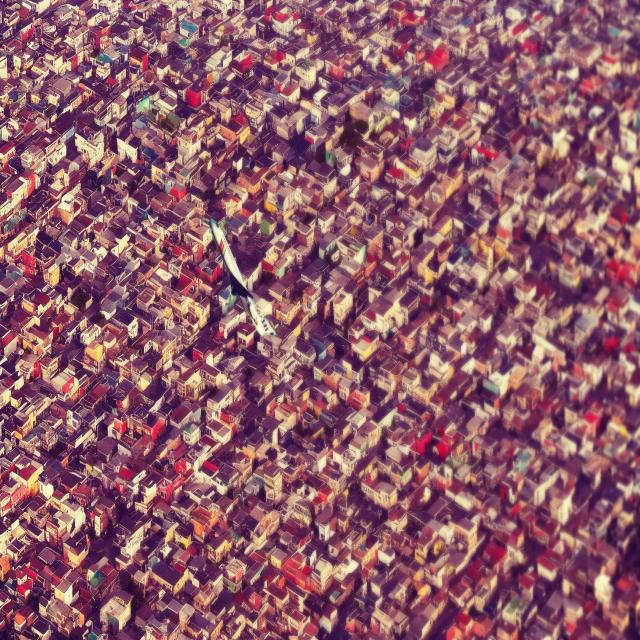airplane: (208, 216, 278, 339)
